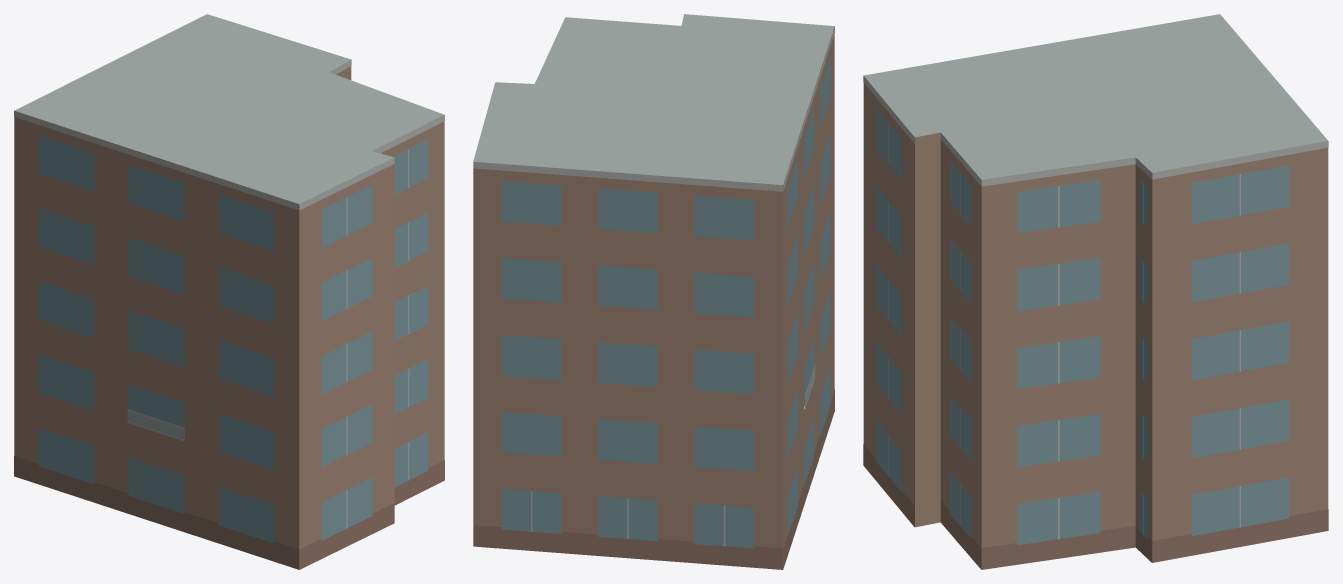
The model's file is survey-upis-32854637.glb.
The picture shows the model from 3 angles, left to right: view 1: azimuth 30°, elevation 25°; view 2: azimuth 150°, elevation 25°; view 3: azimuth 270°, elevation 25°; orthographic projection. The views are drawn at different scales.
Visible parts, largest first — view 1: survey-upis-32854637.tmp; view 2: survey-upis-32854637.tmp; view 3: survey-upis-32854637.tmp.
Boxes of the visible parts, x1,y1,x2,y2 form: survey-upis-32854637.tmp: (14,14,444,569); survey-upis-32854637.tmp: (473,14,834,569); survey-upis-32854637.tmp: (863,14,1328,569).
Bounding box in the file's own units: 12.97 × 14.2 × 15.36.
